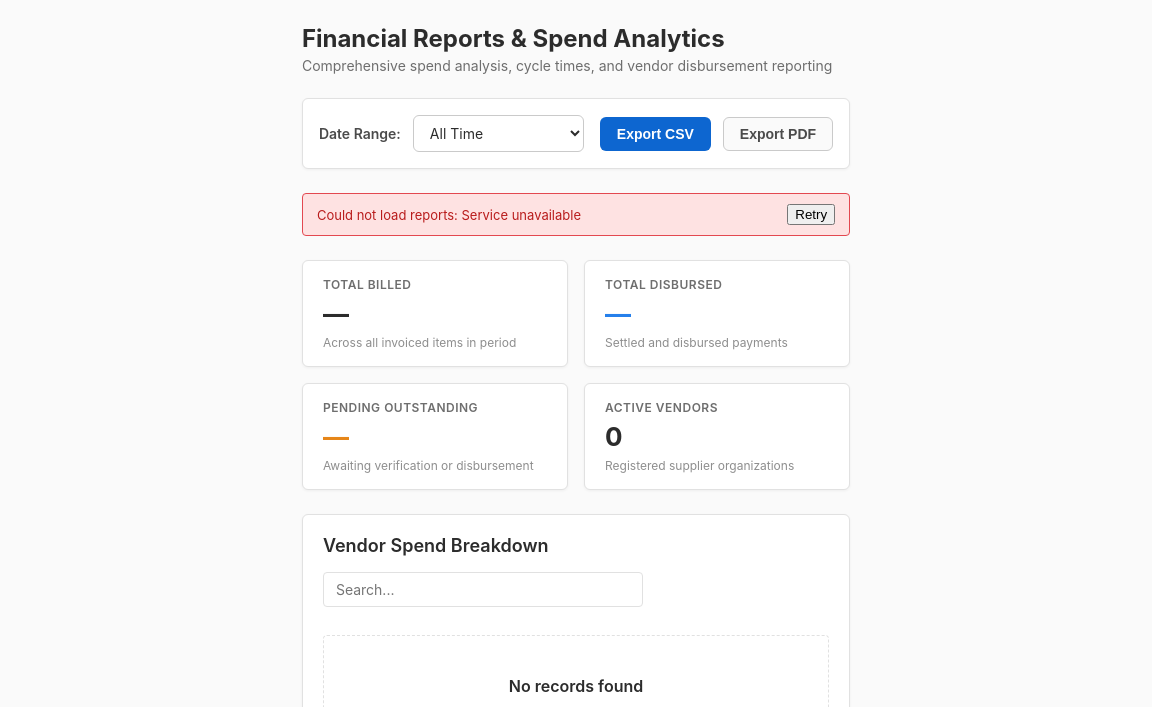
Test: ReportsPage › Backend analytics API › shows an error banner and retries successfully
Expected: the message with test id "reports-error" shows "Service unavailable", [462, 206, 581, 222]
Expected: the element with test id "report-metric-total-billed" shows "—", [323, 298, 349, 329]
Click the button with test id "reports-retry-btn" at (811, 214), box [787, 204, 835, 225]
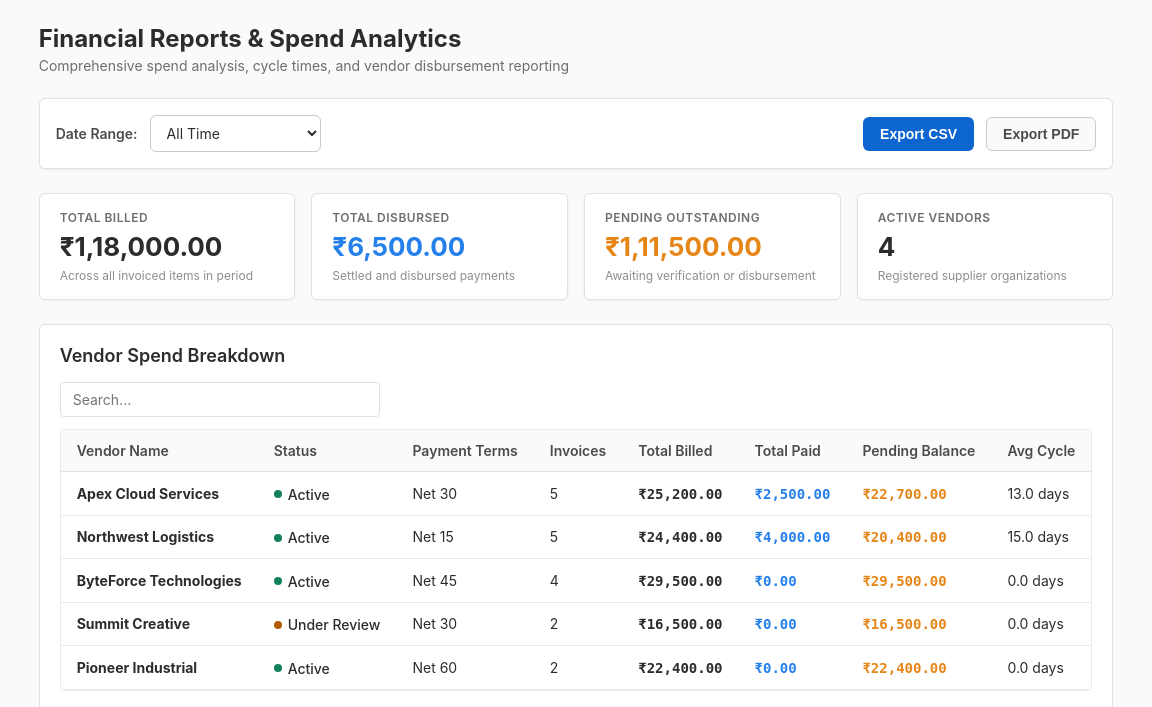
Result: the message with test id "reports-error" is gone
Result: the element with test id "report-metric-total-billed" shows "₹" at [39, 193, 295, 300]
